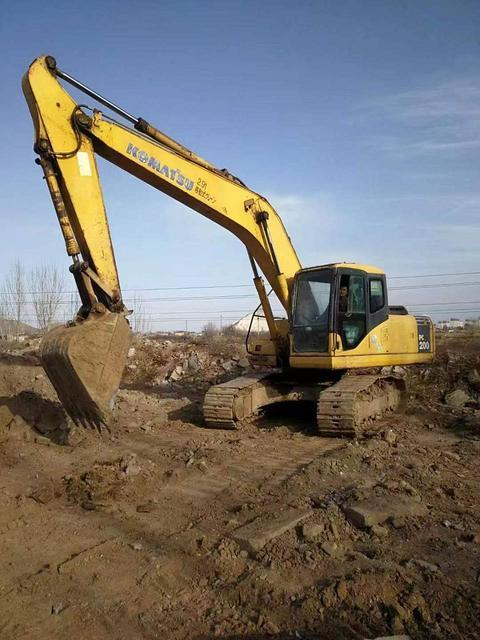excavator: (29, 62, 417, 428)
